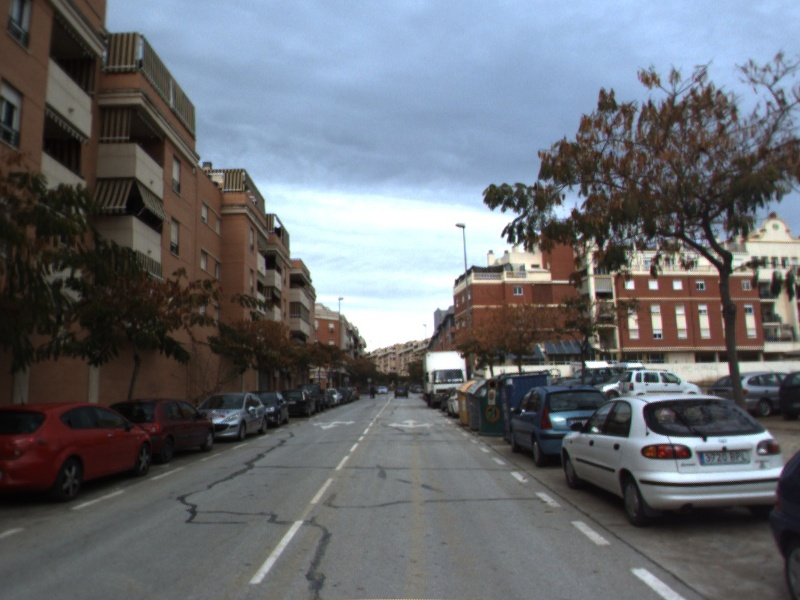STRAIGHT_LEFT_RIGHT: (386, 417, 437, 431)
